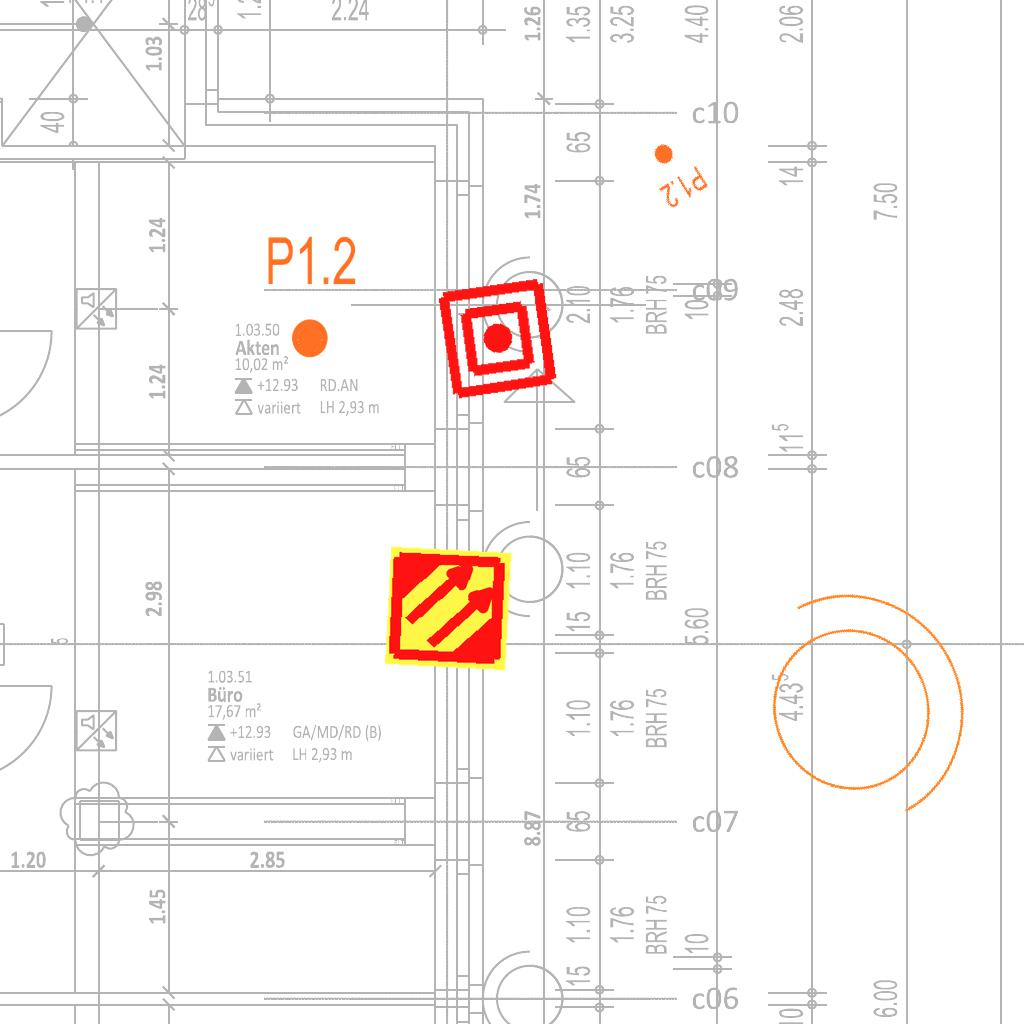ASR_Ansaugrauchmelder: (382, 542, 515, 675)
Downlight_LED_Einbauleuchten_Flur: (265, 233, 358, 361), (637, 132, 711, 212)
NAM-Nichtautomatischer_Melder: (433, 274, 562, 403)
Scheinwerfer_fuer_Alarmbeleuchtung: (695, 530, 1019, 869)
